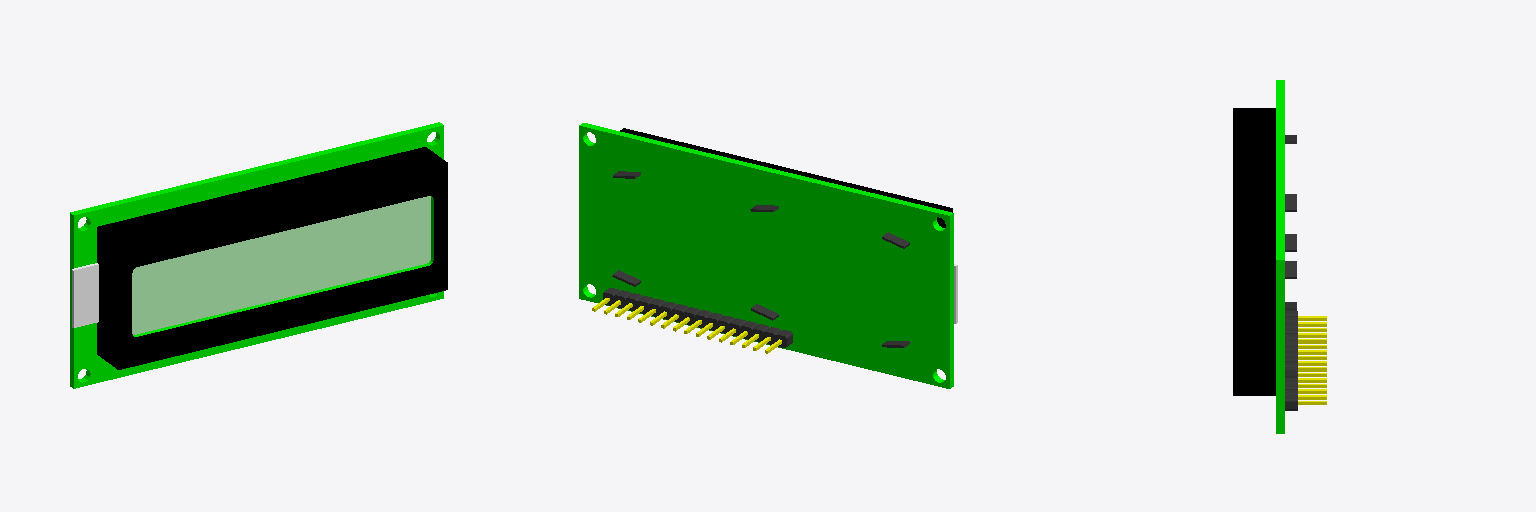
Rendered from LCD1602.obj.
3 views of the same model, side by side, from view 1: azimuth 30°, elevation 25°; view 2: azimuth 150°, elevation 25°; view 3: azimuth 270°, elevation 25° (orthographic).
Visible parts, largest first — view 1: Solid1; view 2: Solid1; view 3: Solid1.
Part boxes in pixels (bbox=[...]): Solid1: bbox=[70, 122, 447, 388]; Solid1: bbox=[579, 123, 957, 388]; Solid1: bbox=[1233, 80, 1326, 433].
Size of the model in its own units: 81 by 36 by 17.8.